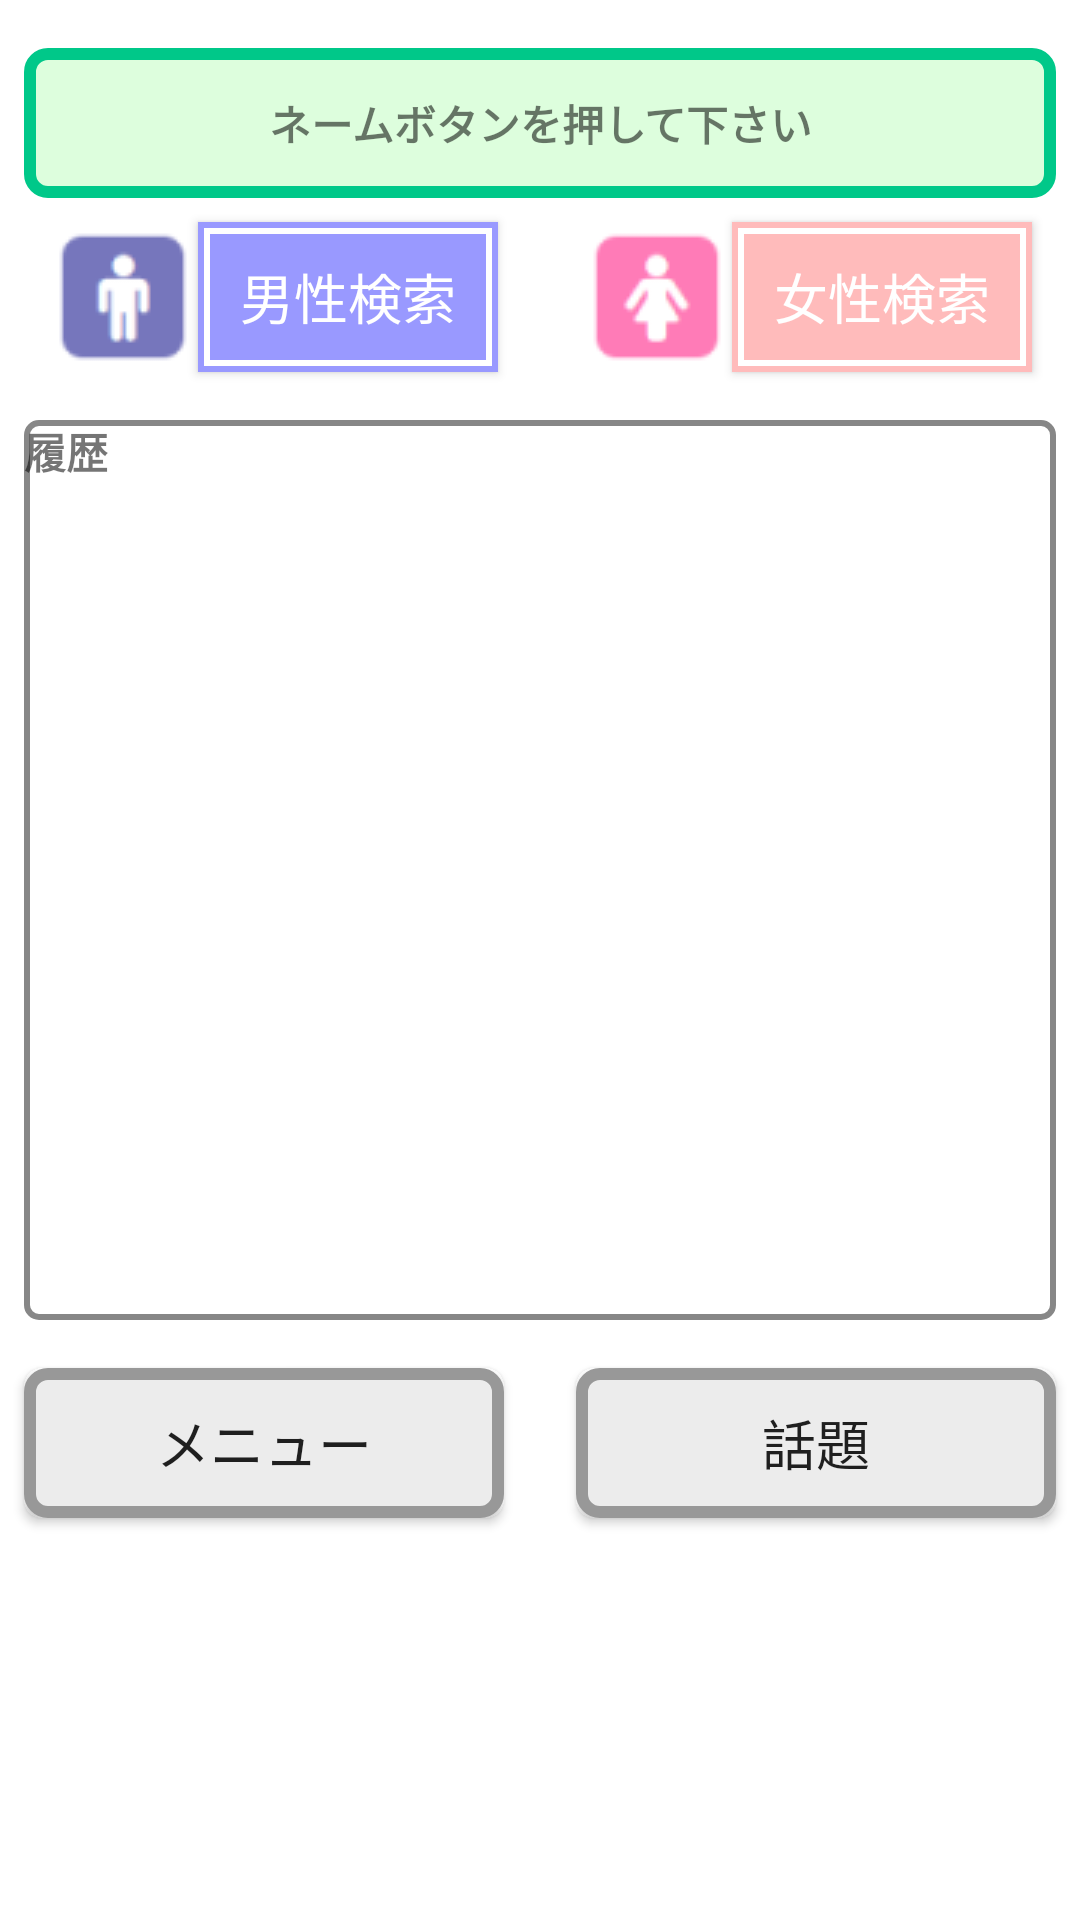

Icons on this 1080w x 1920h Android screen, each with its box as [left=x1, top=y1, right=x2, bottom=y2]:
female: [left=595, top=235, right=719, bottom=359]
male: [left=61, top=235, right=185, bottom=359]
